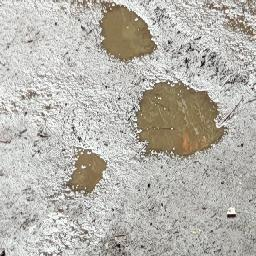water accumulation: (135, 78, 228, 156), (97, 4, 155, 62), (69, 147, 108, 195)
